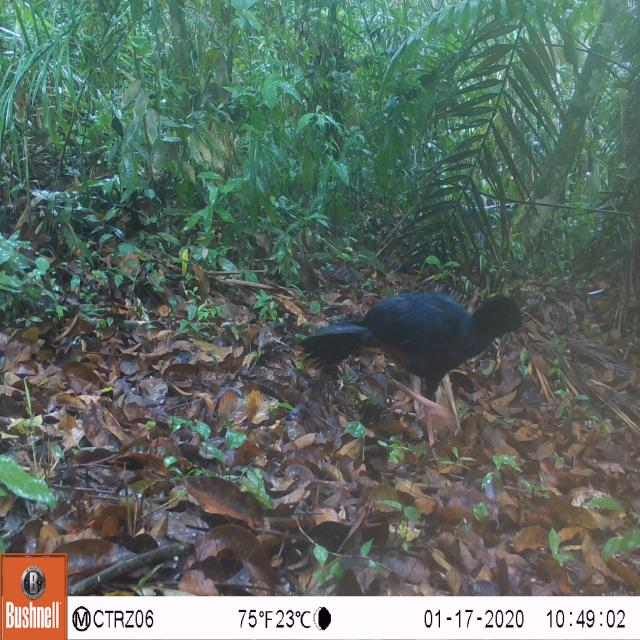Salvins Curassow: (315, 270, 537, 439)
